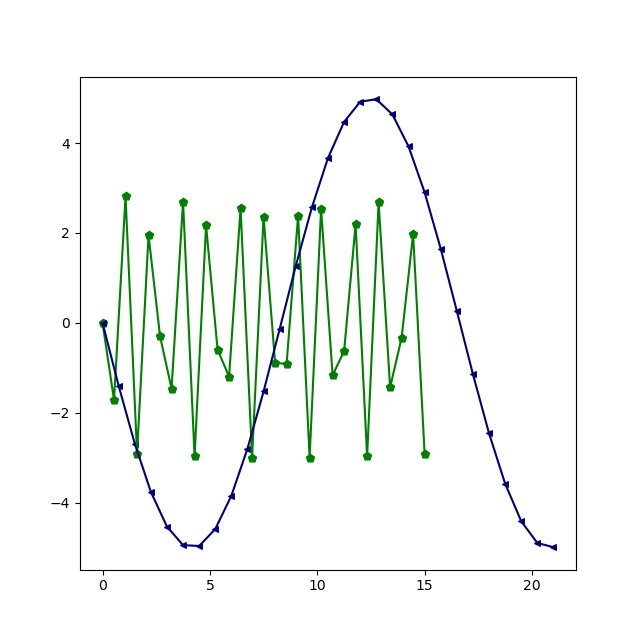pentagon: (98, 318, 109, 329), (109, 395, 120, 406), (121, 191, 132, 202), (132, 449, 143, 460), (144, 230, 155, 241), (155, 331, 166, 342), (167, 384, 178, 395), (178, 197, 189, 208), (190, 451, 201, 462), (201, 220, 212, 231), (213, 345, 224, 356), (224, 372, 235, 383), (236, 203, 247, 214), (247, 453, 258, 464), (259, 212, 270, 223), (270, 358, 281, 369), (282, 359, 293, 370), (293, 211, 304, 222), (305, 453, 316, 464), (316, 204, 327, 215), (328, 370, 339, 381), (339, 346, 350, 357), (351, 219, 362, 230), (362, 451, 373, 462), (374, 197, 385, 208), (385, 382, 396, 393), (397, 333, 408, 344), (408, 229, 419, 240), (420, 449, 431, 460)
triangle_left: (99, 319, 108, 328), (115, 382, 124, 391), (131, 440, 140, 449), (147, 488, 156, 497), (163, 523, 172, 532), (179, 541, 188, 550), (195, 542, 204, 551), (211, 525, 220, 534), (227, 492, 236, 501), (243, 445, 252, 454), (260, 387, 269, 396), (276, 325, 285, 334), (292, 262, 301, 271), (308, 203, 317, 212), (324, 154, 333, 163), (340, 118, 349, 127), (356, 98, 365, 107), (372, 95, 381, 104), (388, 110, 397, 119), (405, 142, 414, 151), (421, 188, 430, 197), (437, 245, 446, 254), (453, 307, 462, 316), (469, 370, 478, 379), (485, 429, 494, 438), (501, 480, 510, 489), (517, 517, 526, 526), (533, 539, 542, 548), (549, 543, 558, 552)
